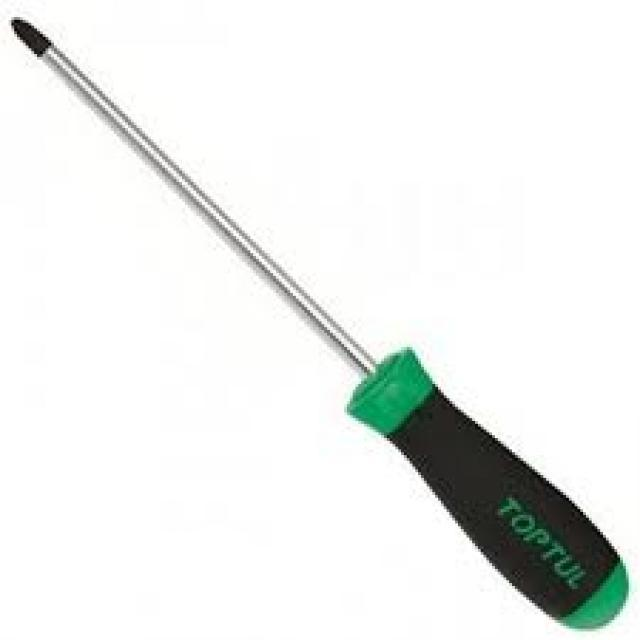screwdriver: (6, 13, 632, 630)
